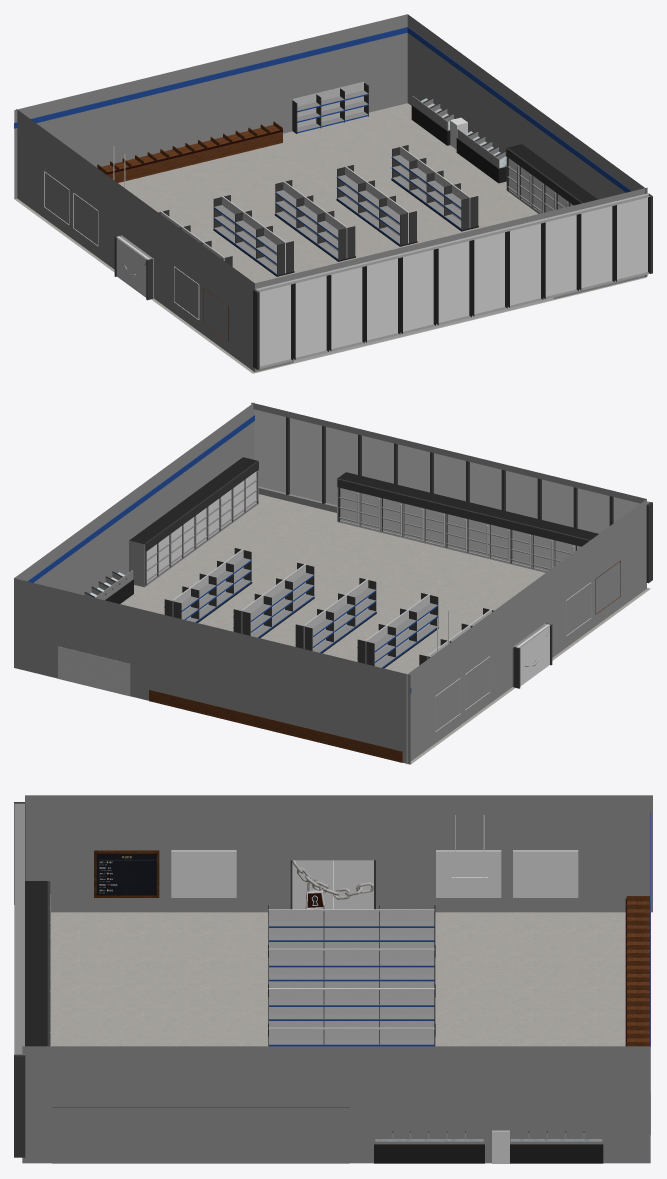
The model's file is chaoshi.FBX.
3 renders of one model, top to bottom at view 1: azimuth 30°, elevation 25°; view 2: azimuth 150°, elevation 25°; view 3: azimuth 270°, elevation 25°, orthographic. The views are drawn at different scales.
Parts seen in each view (by area): view 1: chaoshi, chuanghu, huojia7, huojia1, huojia3, huojia4, huojia2, huojia8, huojia11, huojia10, huojia9, boli (+3 smaller); view 2: chaoshi, chuanghu, boli (×2), huojia12, huojia11, huojia1, huojia2, huojia3, huojia4, huojia7, huojia8, huojia10 (+2 smaller); view 3: chaoshi, huojia11, huojia5, huojia3, huojia4, huojia12, huojia7, huojia2, Box009, Box010, Box011, Box012 (+7 smaller).
Boxes of the visible parts, <box> form: chaoshi: <box>14,14,652,373</box>; chuanghu: <box>256,193,648,366</box>; huojia7: <box>97,121,282,182</box>; huojia1: <box>391,145,478,231</box>; huojia3: <box>274,180,355,261</box>; huojia4: <box>213,195,294,276</box>; huojia2: <box>336,165,417,246</box>; huojia8: <box>292,82,368,133</box>; huojia11: <box>506,144,597,213</box>; huojia10: <box>456,129,506,183</box>; huojia9: <box>411,96,454,145</box>; boli: <box>509,158,573,213</box>; chaoshi: <box>14,402,652,764</box>; chuanghu: <box>254,409,648,533</box>; boli (×2): <box>146,471,581,582</box>; huojia12: <box>337,472,598,572</box>; huojia11: <box>129,457,258,587</box>; huojia1: <box>164,548,252,622</box>; huojia2: <box>233,562,314,637</box>; huojia3: <box>295,578,376,653</box>; huojia4: <box>357,593,438,668</box>; huojia7: <box>149,689,402,762</box>; huojia8: <box>58,646,130,696</box>; huojia10: <box>84,570,133,603</box>; chaoshi: <box>14,795,652,1163</box>; huojia11: <box>52,1107,349,1163</box>; huojia5: <box>268,905,435,957</box>; huojia3: <box>268,984,435,1036</box>; huojia4: <box>268,945,435,996</box>; huojia12: <box>25,881,50,1046</box>; huojia7: <box>625,896,650,1046</box>; huojia2: <box>268,1024,435,1046</box>; Box009: <box>171,850,236,897</box>; Box010: <box>94,850,159,897</box>; Box011: <box>513,850,578,897</box>; Box012: <box>436,850,501,897</box>.
Bounding box in the file's own units: 3382 × 727 × 3543.
